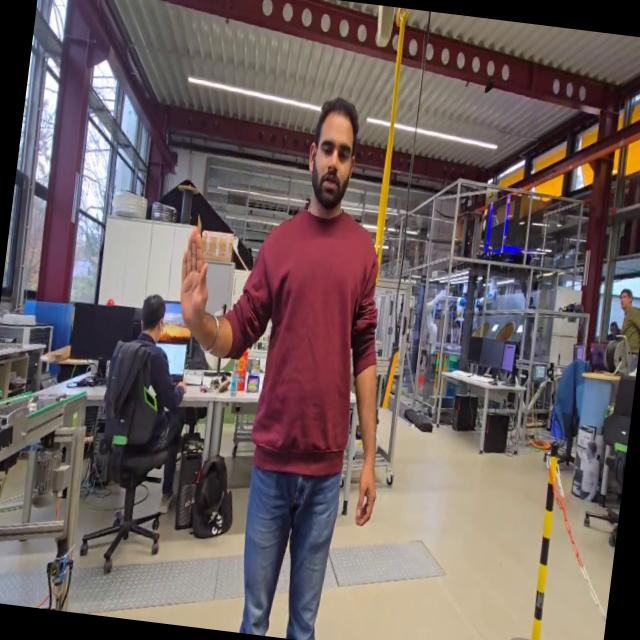open_palm: (168, 214, 222, 343)
